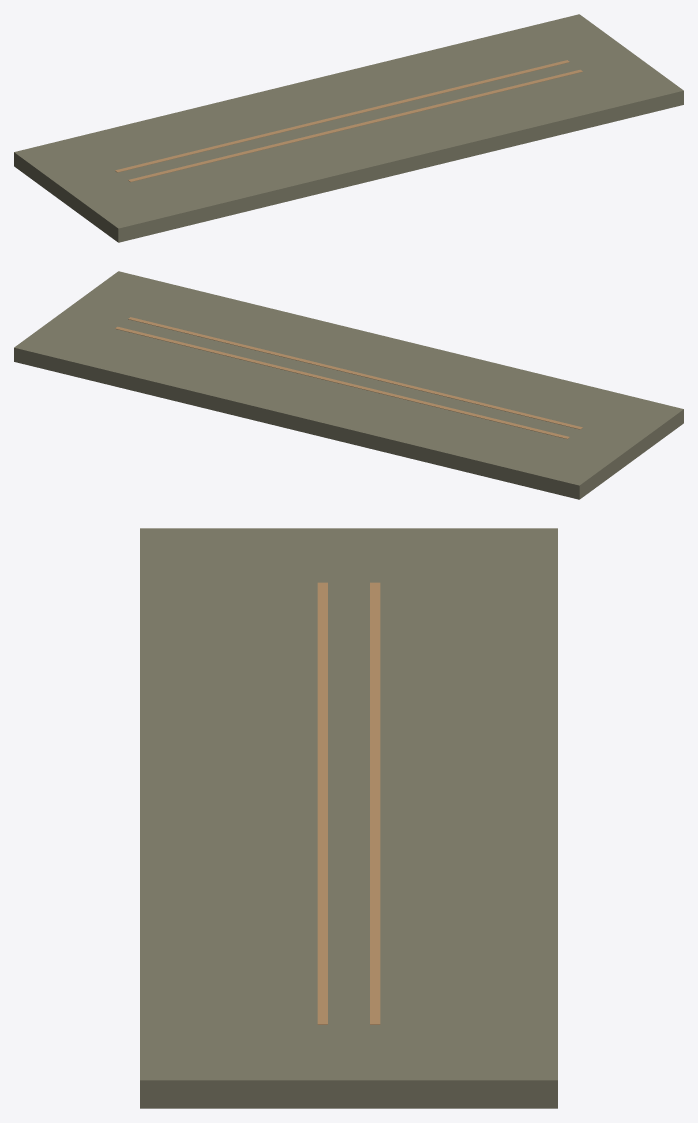
The model's file is 172_L111_ImpedanceCoupon.glb.
3 views of the same model, one above another, from view 1: azimuth 30°, elevation 25°; view 2: azimuth 150°, elevation 25°; view 3: azimuth 270°, elevation 25° (orthographic). The views are drawn at different scales.
Visible parts, largest first — view 1: FR4_Core, Copper_Exposed; view 2: FR4_Core, Copper_Exposed; view 3: FR4_Core, Copper_Exposed.
Part boxes in pixels (<box>): FR4_Core: <box>14,14,683,242</box>; Copper_Exposed: <box>115,60,582,182</box>; FR4_Core: <box>14,271,683,499</box>; Copper_Exposed: <box>115,317,582,439</box>; FR4_Core: <box>140,528,557,1108</box>; Copper_Exposed: <box>317,582,380,1024</box>.
Bounding box in the file's own units: 0.05 × 0.00123 × 0.016.
